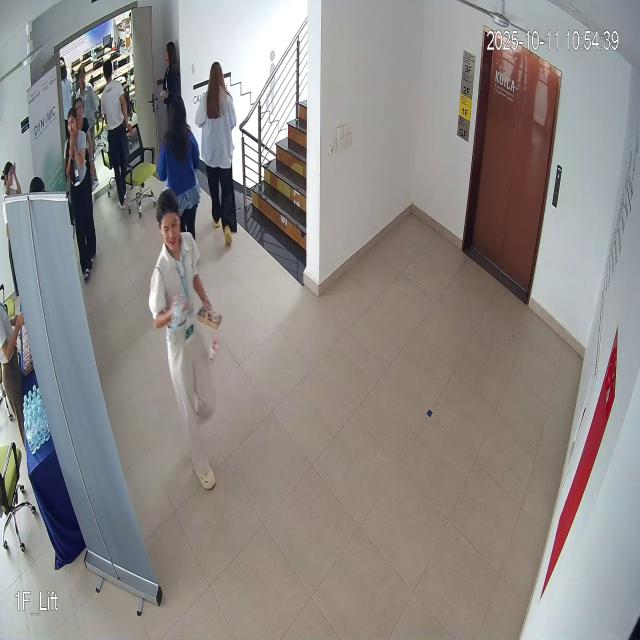face: (155, 179, 187, 263)
